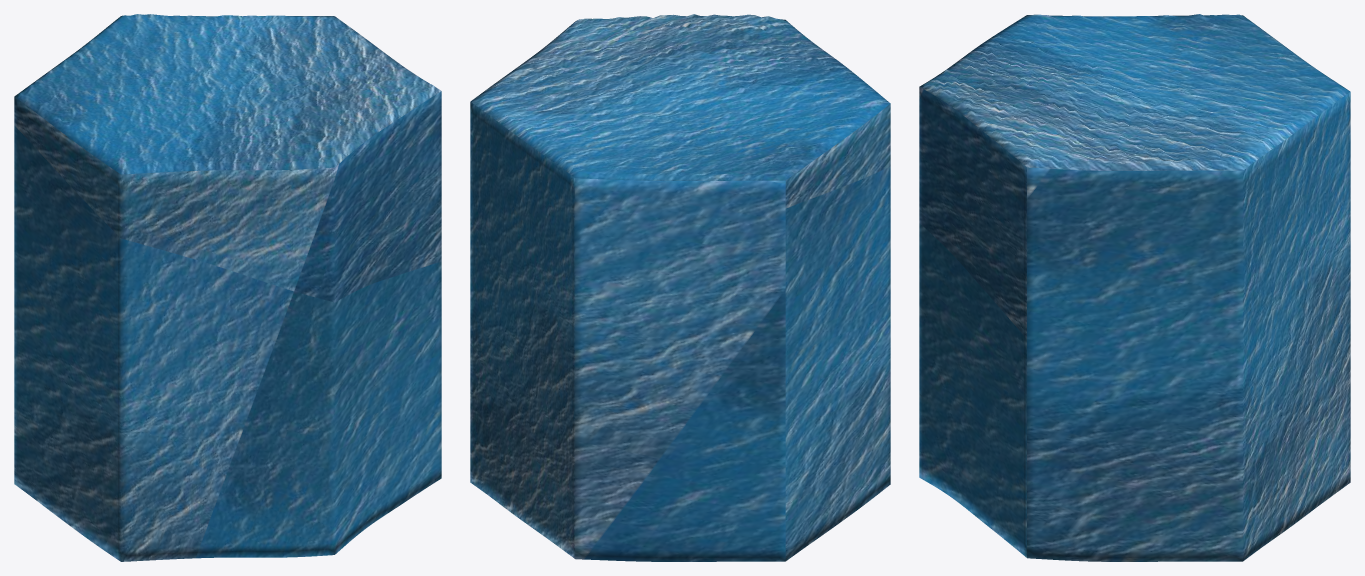
The model's file is Ocean.fbx.
The picture shows the model from 3 angles, left to right: view 1: azimuth 30°, elevation 25°; view 2: azimuth 150°, elevation 25°; view 3: azimuth 270°, elevation 25°; orthographic projection. The views are drawn at different scales.
Parts seen in each view (by area): view 1: Ocean; view 2: Ocean; view 3: Ocean.
Boxes of the visible parts, x1,y1,x2,y2 form: Ocean: [14, 14, 441, 561]; Ocean: [470, 14, 890, 561]; Ocean: [919, 14, 1350, 561].
Bounding box in the file's own units: 173 × 209 × 200.
